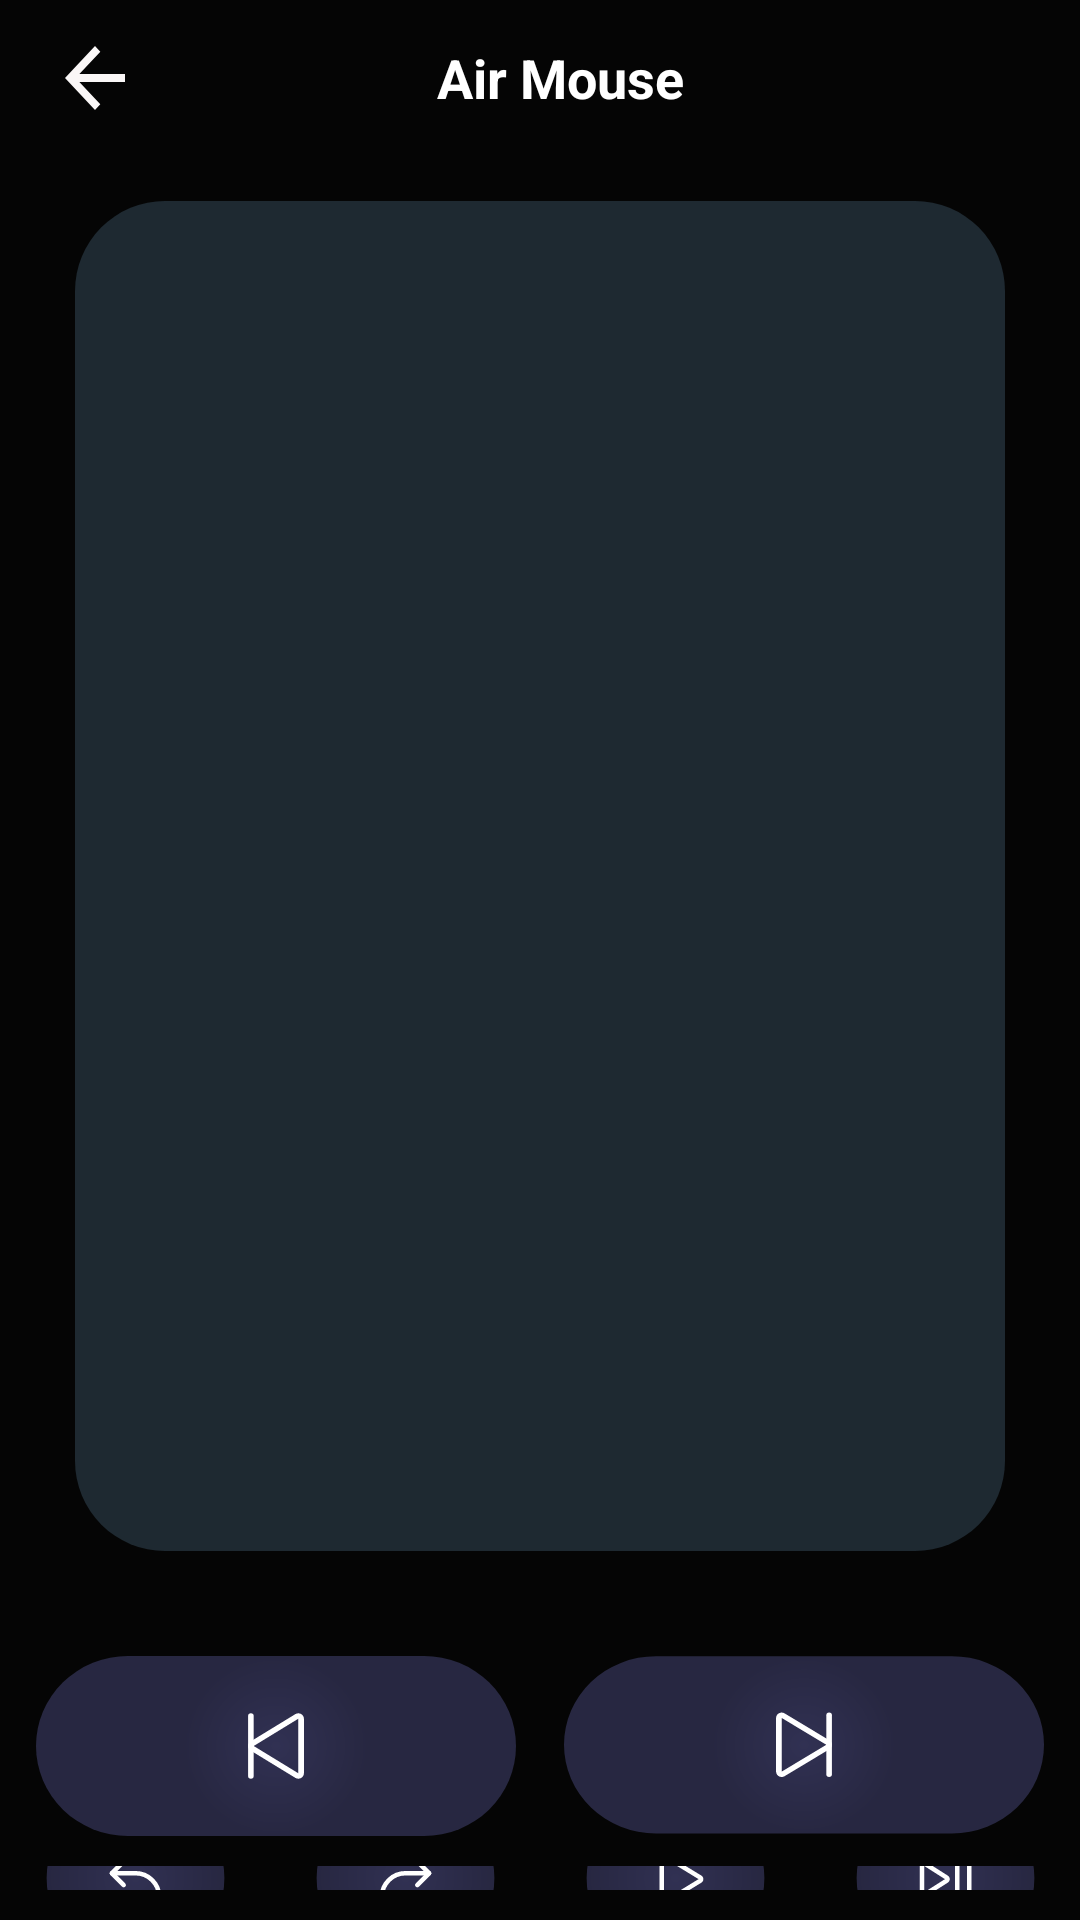

Named icons in this screenshot (1080*1920) and their bounding boxes, (x1, y1, x2, y2):
arrow back: (65, 46, 125, 110)
